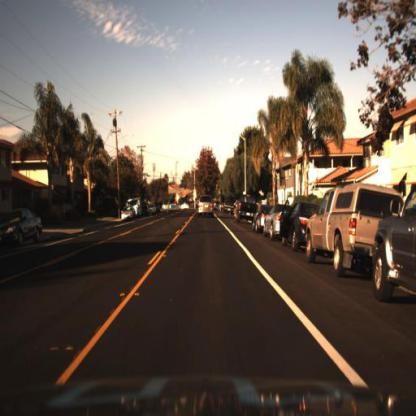car: (307, 185, 407, 279), (374, 176, 416, 306), (1, 205, 44, 252), (282, 199, 320, 251), (280, 196, 307, 254), (235, 193, 258, 228), (265, 201, 283, 243), (250, 201, 268, 237), (198, 191, 216, 222), (117, 204, 140, 226), (127, 197, 146, 222), (120, 207, 137, 223), (136, 197, 144, 218), (143, 203, 152, 219)
